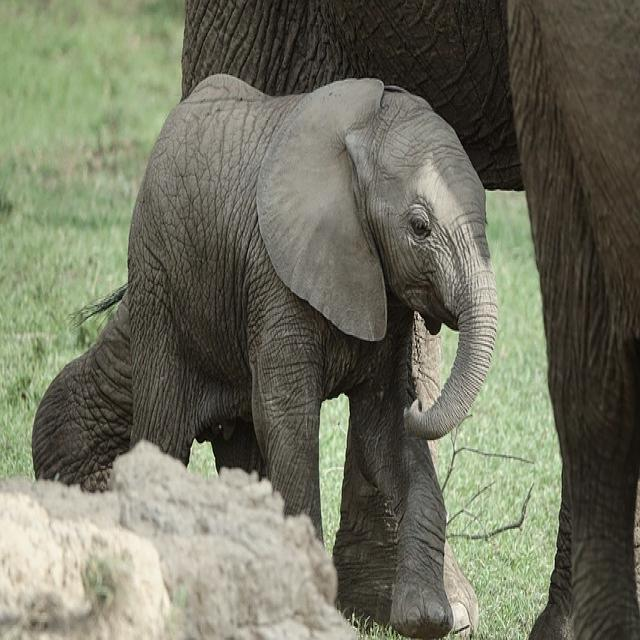FIL: (134, 74, 500, 618)
